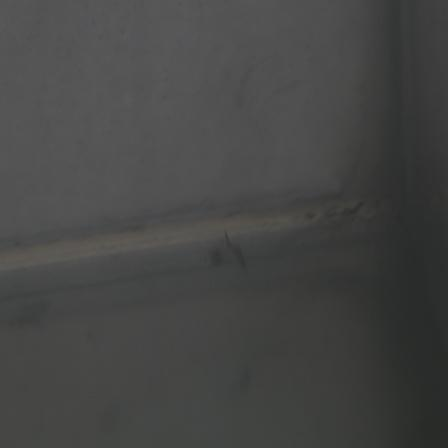Jentik-Nyamuk: (220, 226, 248, 270), (337, 197, 366, 222)
